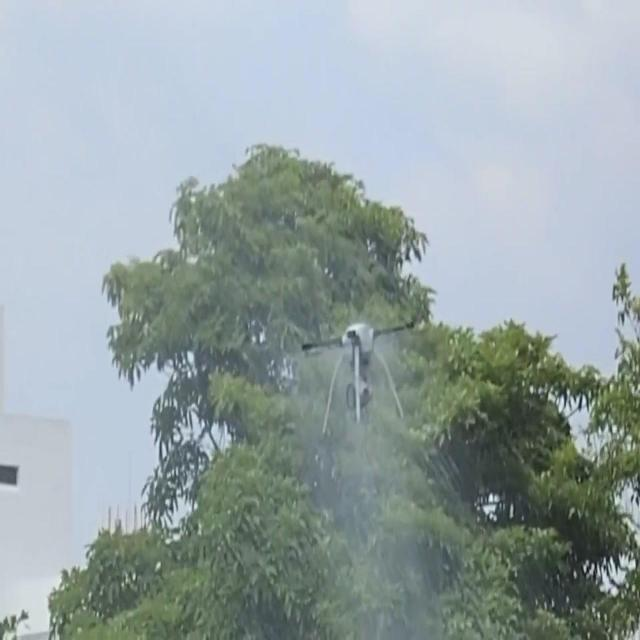drone: (303, 318, 415, 433)
